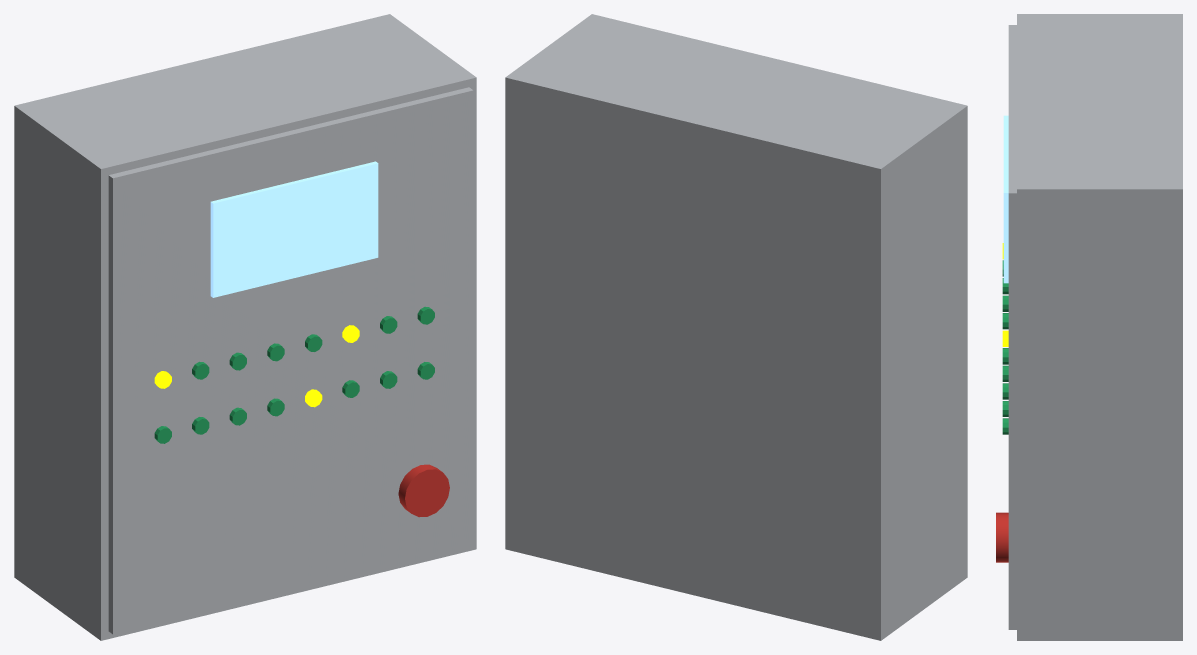
Rendered from SM_GasAlarmPanel.fbx.
3 renders of one model, left to right at view 1: azimuth 30°, elevation 25°; view 2: azimuth 150°, elevation 25°; view 3: azimuth 270°, elevation 25°, orthographic. The views are drawn at different scales.
Parts seen in each view (by area): view 1: GD_AlarmPanel; view 2: GD_AlarmPanel; view 3: GD_AlarmPanel.
Boxes of the visible parts, x1,y1,x2,y2 form: GD_AlarmPanel: (14, 14, 476, 640); GD_AlarmPanel: (505, 14, 967, 640); GD_AlarmPanel: (996, 14, 1182, 640).
Size of the model in its own units: 50 by 60 by 22.5.
